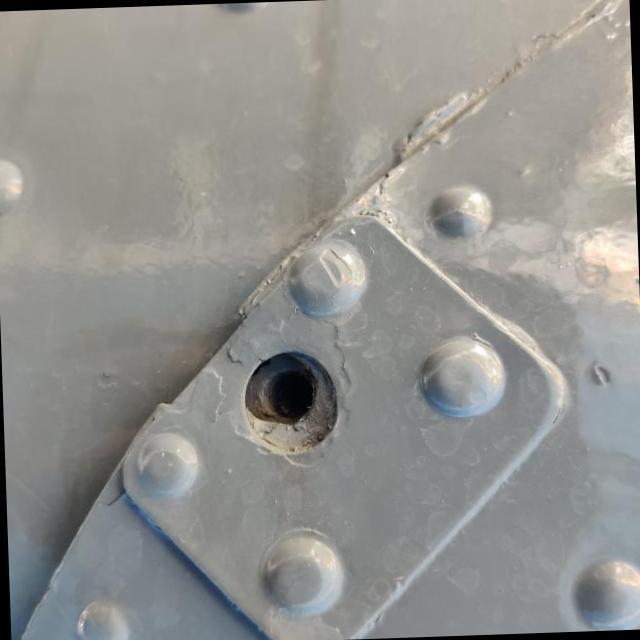Fastener Damage: (212, 320, 379, 482)
